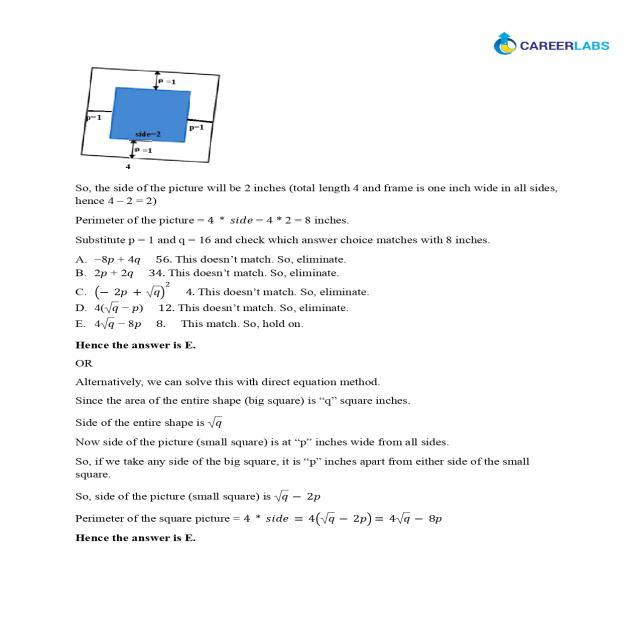Description: (59, 60, 570, 552)
Question_Paper_Area: (59, 60, 570, 552)
